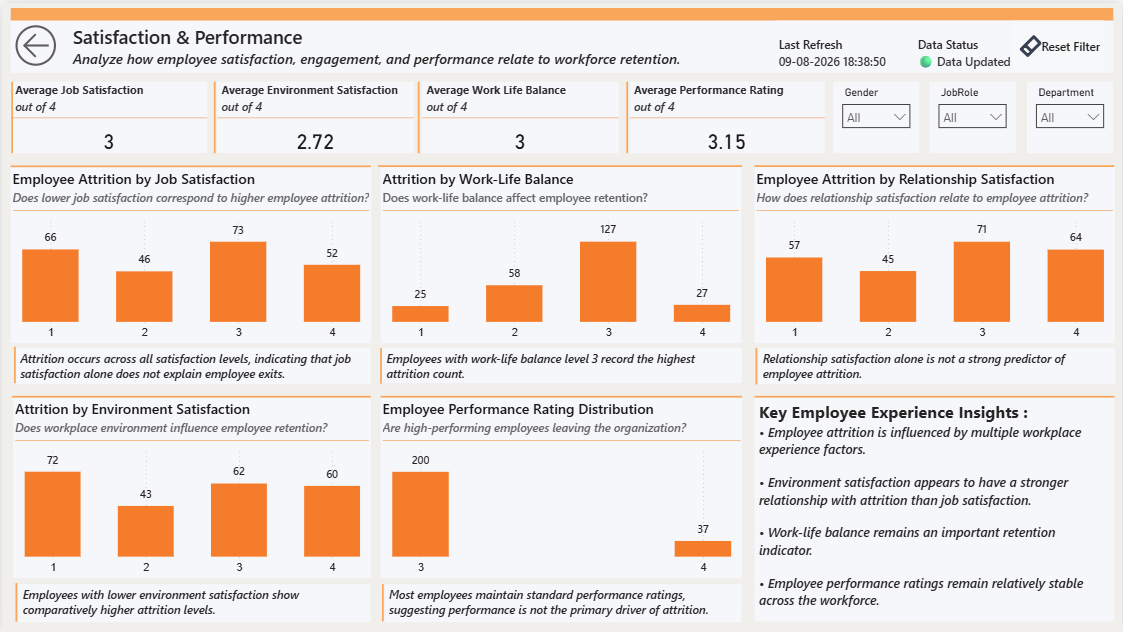

What the dashboard file says about the page in this screenshot:
{"tool":"powerbi","page":{"name":"Satisfaction & Performance","canvas":[1280,720],"ordinal":3},"visuals":[{"type":"card","title":"Average Job Satisfaction","fields":{"Values":["Measures (2).Average Job Satisfaction"]},"box":[10,90,225,81.7],"z":0},{"type":"card","title":"Average Environment Satisfaction","fields":{"Values":["Measures (2).Avg Environment Satisfaction"]},"box":[245,90,225,81.7],"z":1000},{"type":"card","title":"Average Work Life Balance","fields":{"Values":["Measures (2).Average Work Life Balance"]},"box":[480,90,225,81.7],"z":2000},{"type":"card","title":"Average Performance Rating","fields":{"Values":["Measures (2).Avg Performance Rating"]},"box":[716.7,90,223.3,81.7],"z":3000},{"type":"clusteredColumnChart","title":"Employee Attrition by Job Satisfaction","fields":{"Category":["Employees.JobSatisfaction"],"Y":["Measures (2).Attrition Count"]},"box":[10,186.7,411.7,201.7],"z":4000},{"type":"clusteredColumnChart","title":"Attrition by Environment Satisfaction","fields":{"Category":["Employees.EnvironmentSatisfaction"],"Y":["Measures (2).Attrition Count"]},"box":[12.9,450,408.6,207.1],"z":5000},{"type":"clusteredColumnChart","title":"Attrition by Work-Life Balance","fields":{"Category":["Employees.WorkLifeBalance"],"Y":["Measures (2).Attrition Count"]},"box":[433.3,186.7,411.7,201.7],"z":6000},{"type":"clusteredColumnChart","title":"Employee Attrition by Relationship Satisfaction","fields":{"Category":["Employees.RelationshipSatisfaction"],"Y":["Measures (2).Attrition Count"]},"box":[860,186.7,411.7,201.7],"z":7000},{"type":"clusteredColumnChart","title":"Employee Performance Rating Distribution","fields":{"Category":["Employees.PerformanceRating"],"Y":["Measures (2).Attrition Count"]},"box":[432.9,450,412.9,207.1],"z":8000},{"type":"textbox","box":[860,450,411.4,257.1],"z":9000},{"type":"slicer","fields":{"Values":["Employees.Department"]},"box":[1171.7,90,98.3,81.7],"z":10000},{"type":"slicer","fields":{"Values":["Employees.JobRole"]},"box":[1060,90,98.3,81.7],"z":11000},{"type":"slicer","fields":{"Values":["Employees.Gender"]},"box":[950,90,98.3,81.7],"z":12000},{"type":"shape","box":[10,20,1260,60],"z":13000},{"type":"shape","box":[10,5.7,1260,14.3],"z":14000},{"type":"textbox","box":[75.7,18.6,712.9,61.4],"z":15000},{"type":"cardVisual","title":"Last Refresh","fields":{"Data":["Min(Last Refreshed.LastRefresh)","Measures (2).Data Status"]},"box":[868.3,16.7,350,80],"z":16000},{"type":"textbox","box":[15.7,393.6,405.7,41.4],"z":17000},{"type":"shape","box":[11.7,393.3,6.7,41.7],"z":18000},{"type":"textbox","box":[18.3,664.2,402.5,43.3],"z":19000},{"type":"shape","box":[427.1,394.3,12.1,40.7],"z":20000},{"type":"textbox","box":[434.3,394.3,411.4,40],"z":21000},{"type":"shape","box":[858.6,394.3,7.1,41.4],"z":22000},{"type":"textbox","box":[863.6,393.6,407.9,41.4],"z":23000},{"type":"shape","box":[429.2,664.2,13.3,42.5],"z":24000},{"type":"textbox","box":[437.5,664.2,408.3,43.3],"z":25000},{"type":"shape","box":[11,662.8,10,44.3],"z":26000},{"type":"shape","box":[10,180,411.7,13.3],"z":27000},{"type":"shape","box":[860,180,411.4,12.9],"z":28000},{"type":"shape","box":[430,180,415.7,12.9],"z":29000},{"type":"shape","box":[860,444.3,411.4,11.4],"z":30000},{"type":"shape","box":[432.9,444.3,412.9,11.4],"z":31000},{"type":"shape","box":[11.4,444.3,410,11.4],"z":32000},{"type":"shape","box":[713.3,90,3.3,81.7],"z":33000},{"type":"shape","box":[473.3,90,6.7,81.7],"z":34000},{"type":"shape","box":[241.7,90,3.3,81.7],"z":35000},{"type":"shape","box":[5,90,11.7,81.7],"z":36000},{"type":"actionButton","title":"Reset Filter","box":[1154,20.4,104.5,58.4],"z":37000},{"type":"actionButton","box":[8.6,18.6,61.4,60],"z":38000}]}

Visuals, with their boxes in screenshot pixels (x1, y1, x2, y2), scaled from the page's 1280x720 canvas onto the 1123x632 screenshot:
"Average Job Satisfaction" card: crop(9, 79, 206, 151)
"Average Environment Satisfaction" card: crop(215, 79, 412, 151)
"Average Work Life Balance" card: crop(421, 79, 619, 151)
"Average Performance Rating" card: crop(629, 79, 825, 151)
"Employee Attrition by Job Satisfaction" clusteredColumnChart: crop(9, 164, 370, 341)
"Attrition by Environment Satisfaction" clusteredColumnChart: crop(11, 395, 370, 577)
"Attrition by Work-Life Balance" clusteredColumnChart: crop(380, 164, 741, 341)
"Employee Attrition by Relationship Satisfaction" clusteredColumnChart: crop(755, 164, 1116, 341)
"Employee Performance Rating Distribution" clusteredColumnChart: crop(380, 395, 742, 577)
textbox: crop(755, 395, 1115, 621)
slicer - Employees.Department: crop(1028, 79, 1114, 151)
slicer - Employees.JobRole: crop(930, 79, 1016, 151)
slicer - Employees.Gender: crop(833, 79, 920, 151)
shape: crop(9, 18, 1114, 70)
shape: crop(9, 5, 1114, 18)
textbox: crop(66, 16, 692, 70)
"Last Refresh" cardVisual: crop(762, 15, 1069, 85)
textbox: crop(14, 345, 370, 382)
shape: crop(10, 345, 16, 382)
textbox: crop(16, 583, 369, 621)
shape: crop(375, 346, 385, 382)
textbox: crop(381, 346, 742, 381)
shape: crop(753, 346, 760, 382)
textbox: crop(758, 345, 1116, 382)
shape: crop(377, 583, 388, 620)
textbox: crop(384, 583, 742, 621)
shape: crop(10, 582, 18, 621)
shape: crop(9, 158, 370, 170)
shape: crop(755, 158, 1115, 169)
shape: crop(377, 158, 742, 169)
shape: crop(755, 390, 1115, 400)
shape: crop(380, 390, 742, 400)
shape: crop(10, 390, 370, 400)
shape: crop(626, 79, 629, 151)
shape: crop(415, 79, 421, 151)
shape: crop(212, 79, 215, 151)
shape: crop(4, 79, 15, 151)
"Reset Filter" actionButton: crop(1012, 18, 1104, 69)
actionButton: crop(8, 16, 61, 69)
